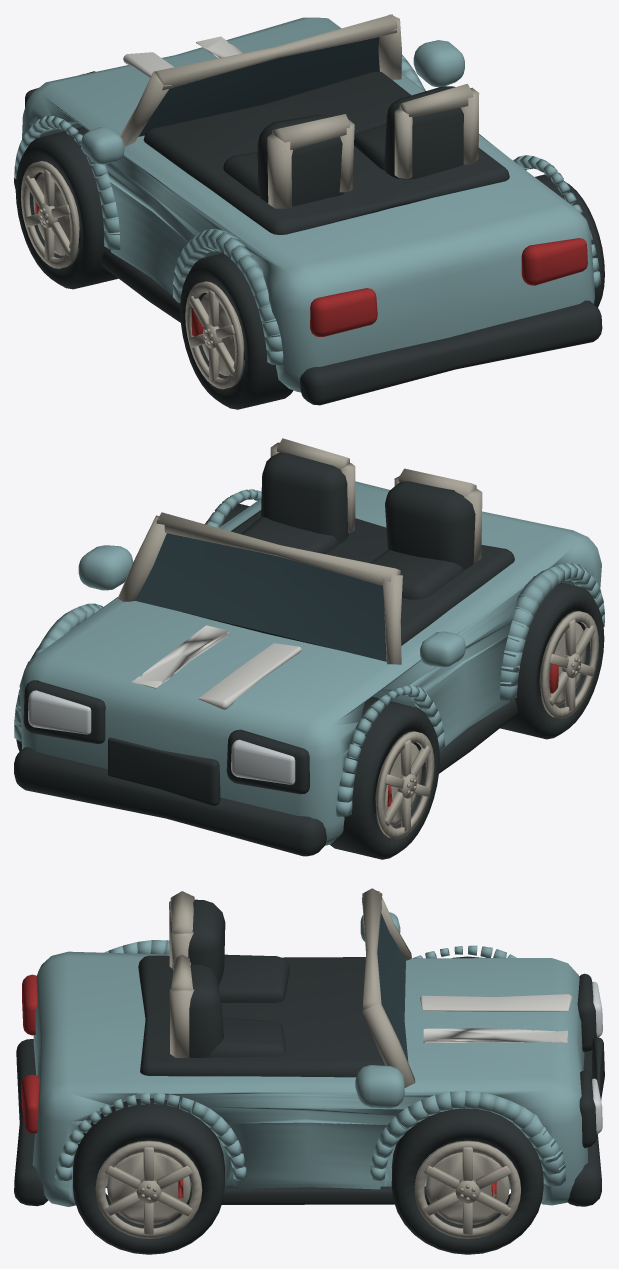
The model's file is car_roadster.glb.
The picture shows the model from 3 angles, top to bottom: view 1: azimuth 30°, elevation 25°; view 2: azimuth 150°, elevation 25°; view 3: azimuth 270°, elevation 25°; orthographic projection. The views are drawn at different scales.
Parts seen in each view (by area): view 1: Body.005, WheelMesh.020, WheelMesh.022, WheelMesh.023; view 2: Body.005, WheelMesh.020, WheelMesh.022; view 3: Body.005, WheelMesh.023, WheelMesh.021.
Part boxes in pixels (box(x1,y1,x2,y2)): Body.005: box(14, 14, 602, 405); WheelMesh.020: box(15, 126, 118, 289); WheelMesh.022: box(180, 253, 293, 409); WheelMesh.023: box(535, 174, 604, 307); Body.005: box(14, 438, 604, 856); WheelMesh.020: box(330, 697, 439, 859); WheelMesh.022: box(500, 582, 604, 739); Body.005: box(14, 888, 604, 1206); WheelMesh.023: box(73, 1098, 224, 1254); WheelMesh.021: box(391, 1108, 543, 1254).
Size of the model in its own units: 2.64 by 1.66 by 3.73.
